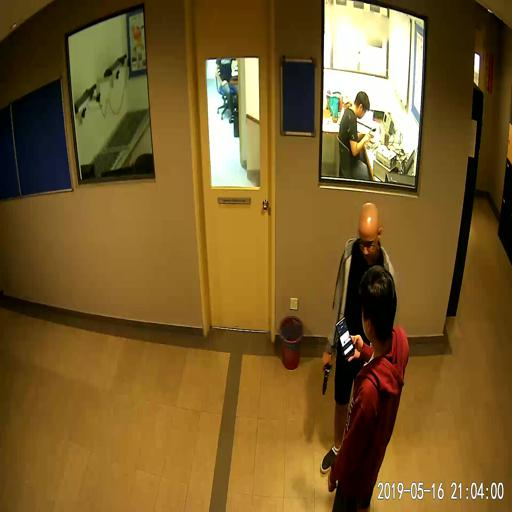pistol: (322, 358, 331, 395)
